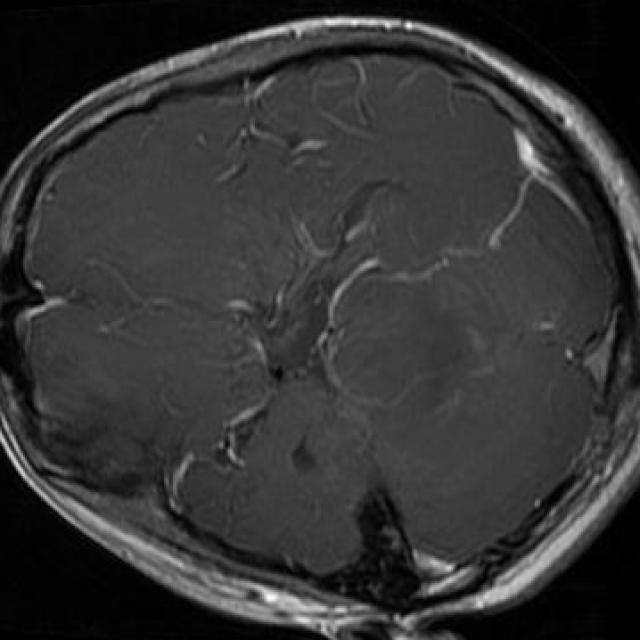glioma: (53, 408, 182, 487)
